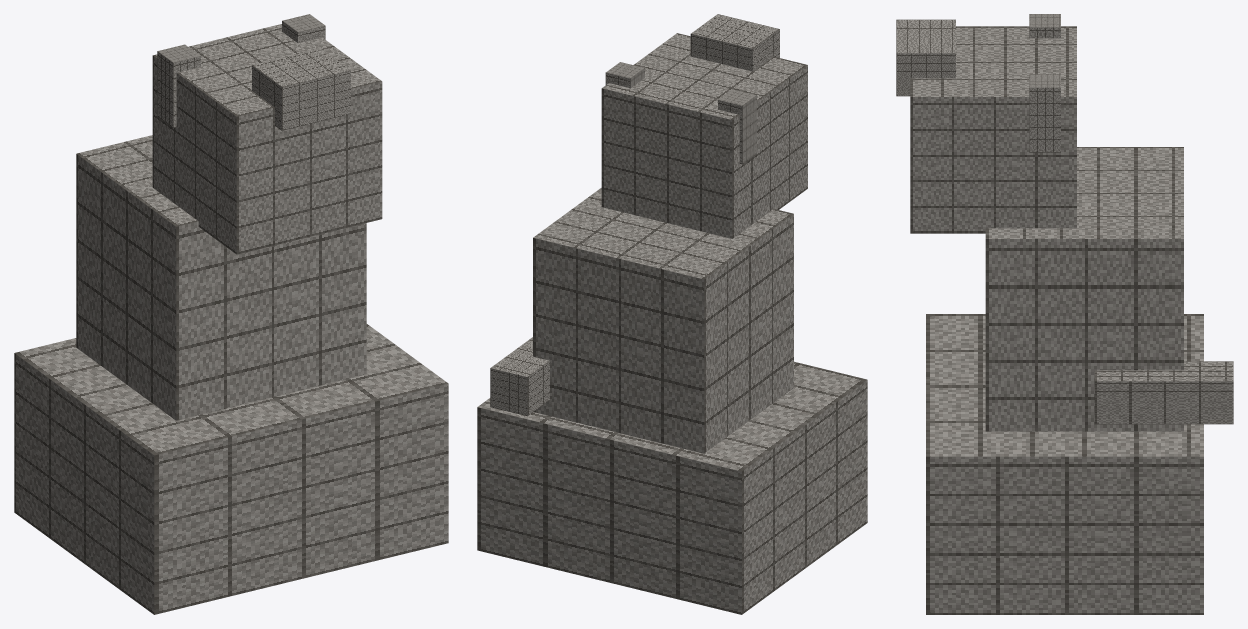
Rendered from stone_lion.glb.
The picture shows the model from 3 angles, left to right: view 1: azimuth 30°, elevation 25°; view 2: azimuth 150°, elevation 25°; view 3: azimuth 270°, elevation 25°; orthographic projection. The views are drawn at different scales.
Visible parts, largest first — view 1: stone_lion; view 2: stone_lion; view 3: stone_lion.
Boxes of the visible parts, left/top/right/bottom form: stone_lion: left=14, top=14, right=448, bottom=614; stone_lion: left=477, top=14, right=867, bottom=614; stone_lion: left=896, top=14, right=1233, bottom=614.
Bounding box in the file's own units: 0.85 × 1.41 × 0.85.
1 material, 1 textured.
